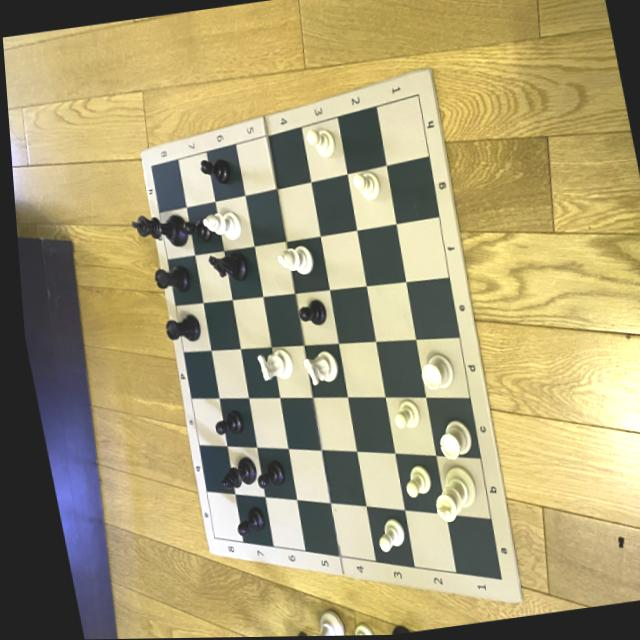Chessboard-Corners: (409, 85, 428, 108), (485, 569, 503, 589), (142, 160, 157, 180), (200, 531, 213, 551)
